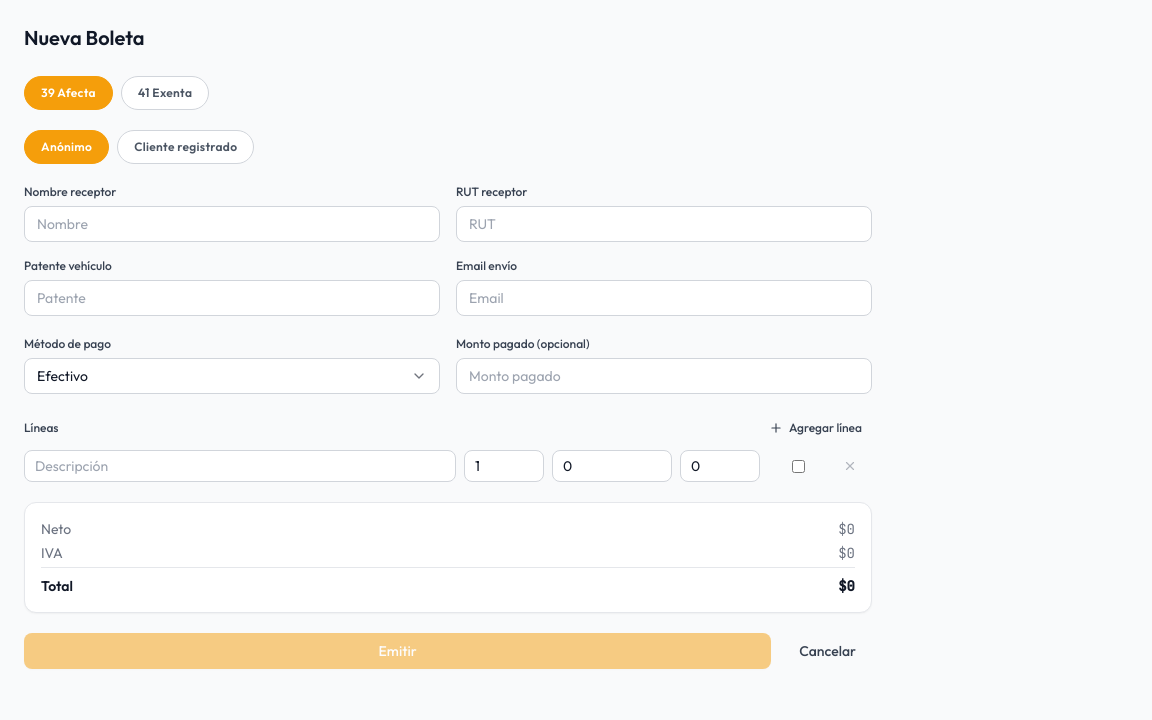
it: BoletaNueva › selecciona producto via autocomplete → rellena descripción y precio
Type "Cem" into the field with placeholder "Descripción" at (240, 466), box [24,450,456,482]
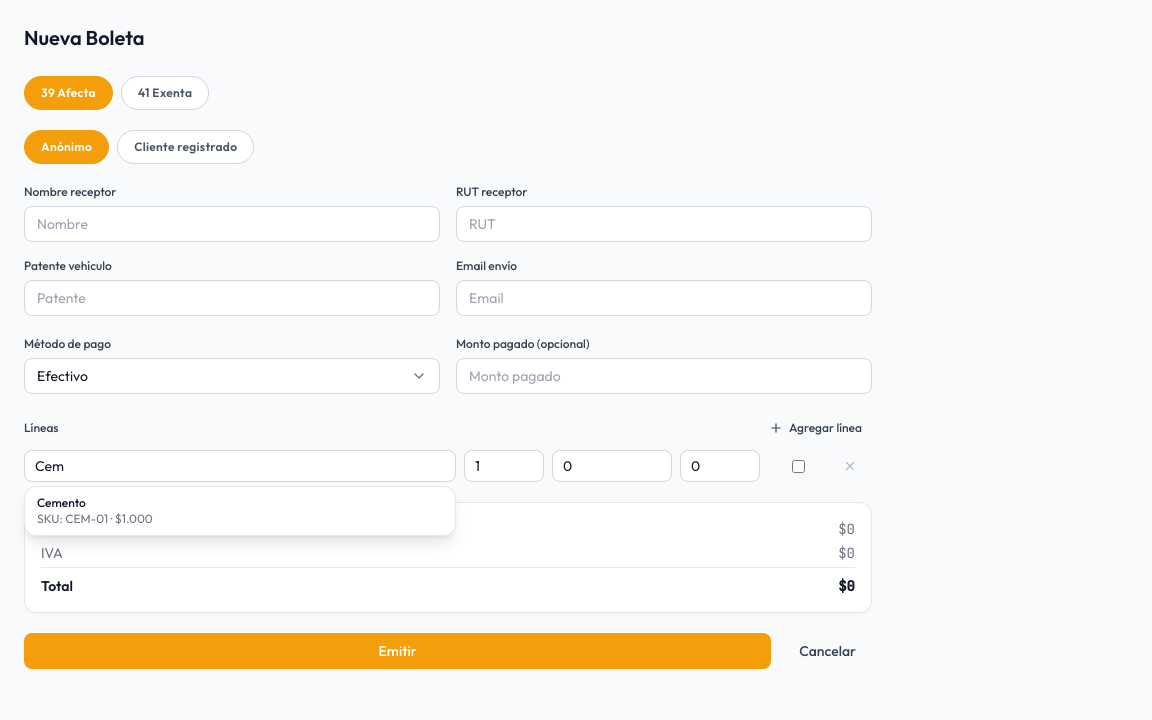
Expected: the text "Cemento" is shown
# Click the autocomplete option
Press the mouse on the text "Cemento" at (61, 502), box [37,495,86,510]
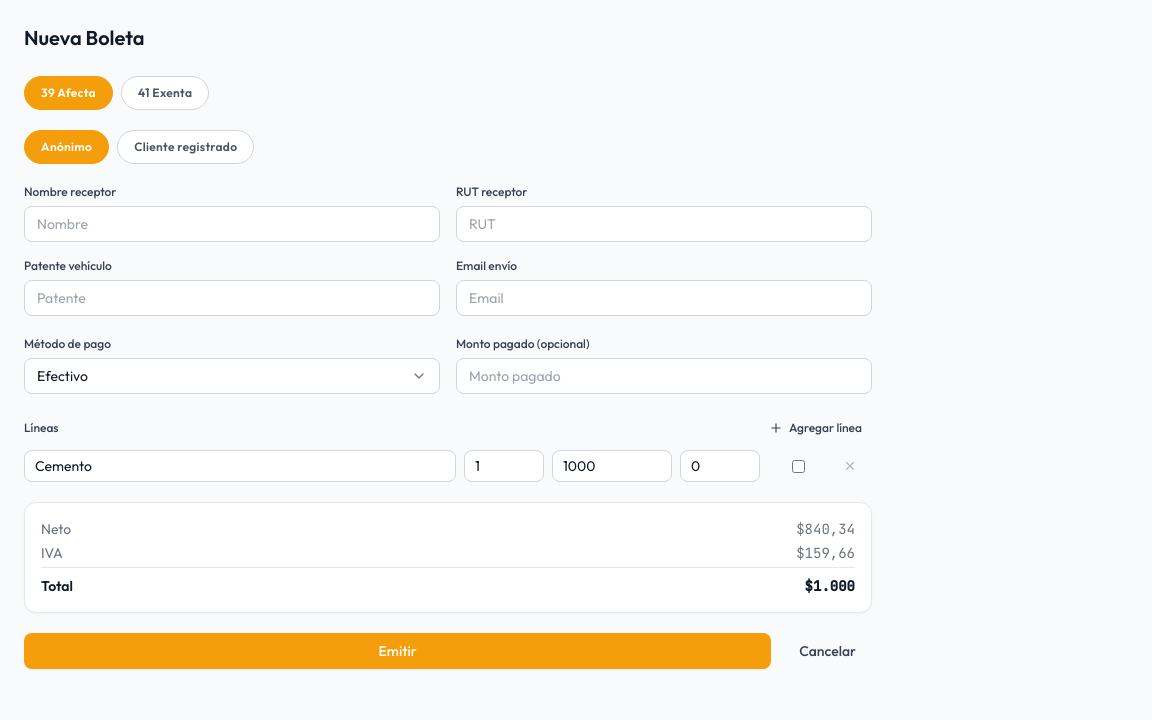
Expected: the field with placeholder "Descripción" holds "Cemento", [24,450,456,482]
Expected: the 2nd number field with placeholder "Precio" holds "1000", [552,450,672,482]
